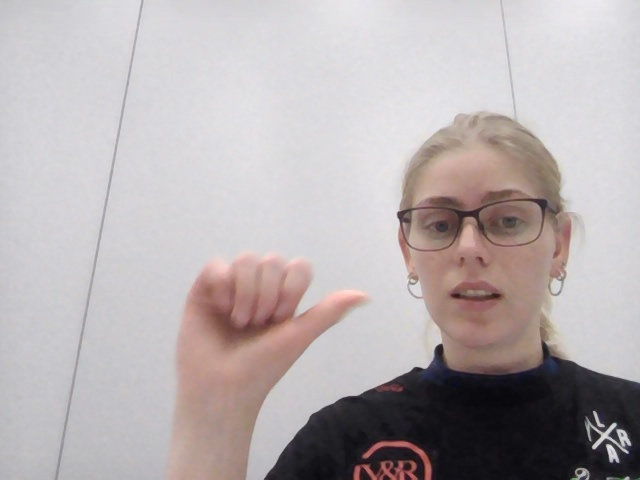left: (118, 162, 383, 427)
